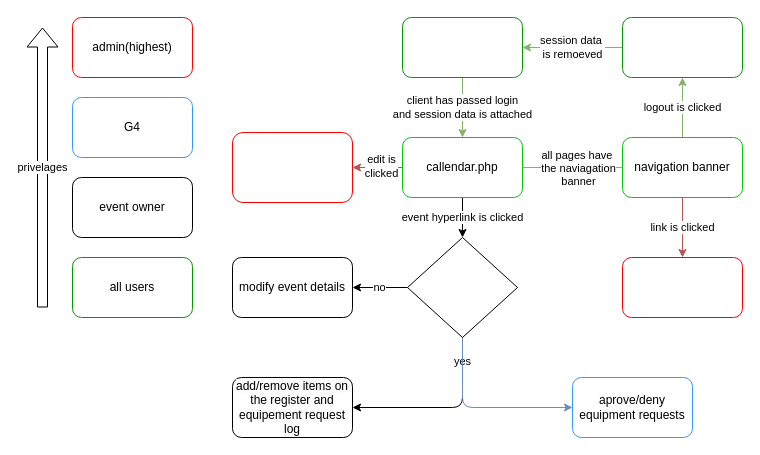
Image size: 760x455. Some labels were removed from this diagram. The shapes that lost their labels are listed below. From the top down, each one's centre as x and y in pixels, then its label:
At (x=462, y=47): "login.php".
At (x=682, y=47): "logout.php".
At (x=292, y=167): "admin edit panel to modify non-aproved events or delete events".
At (x=462, y=287): "is event aproved".
At (x=682, y=287): "add.php add/modify /delete users and equipemtn".
